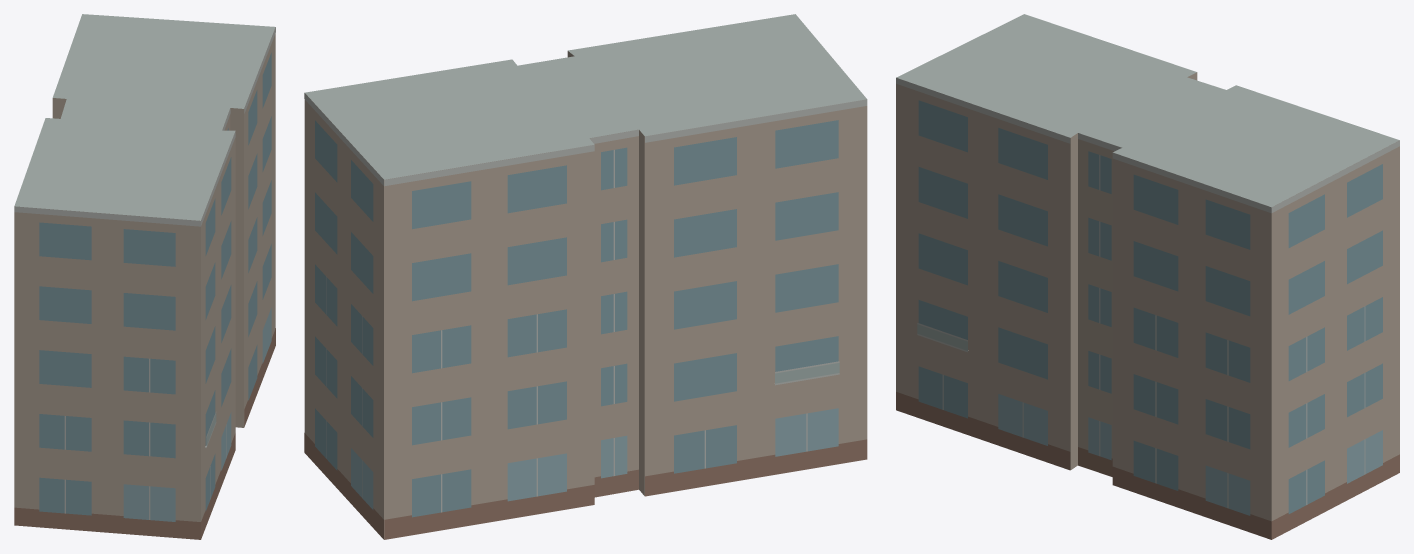
Rendered from survey-upis-32932352.glb.
The picture shows the model from 3 angles, left to right: view 1: azimuth 30°, elevation 25°; view 2: azimuth 150°, elevation 25°; view 3: azimuth 270°, elevation 25°; orthographic projection. The views are drawn at different scales.
Parts seen in each view (by area): view 1: survey-upis-32932352.tmp; view 2: survey-upis-32932352.tmp; view 3: survey-upis-32932352.tmp.
Boxes of the visible parts, bbox=[...] form: survey-upis-32932352.tmp: bbox=[14, 14, 275, 539]; survey-upis-32932352.tmp: bbox=[304, 14, 867, 539]; survey-upis-32932352.tmp: bbox=[896, 14, 1399, 539].
Size of the model in its own units: 16.77 by 13.45 by 18.47.
